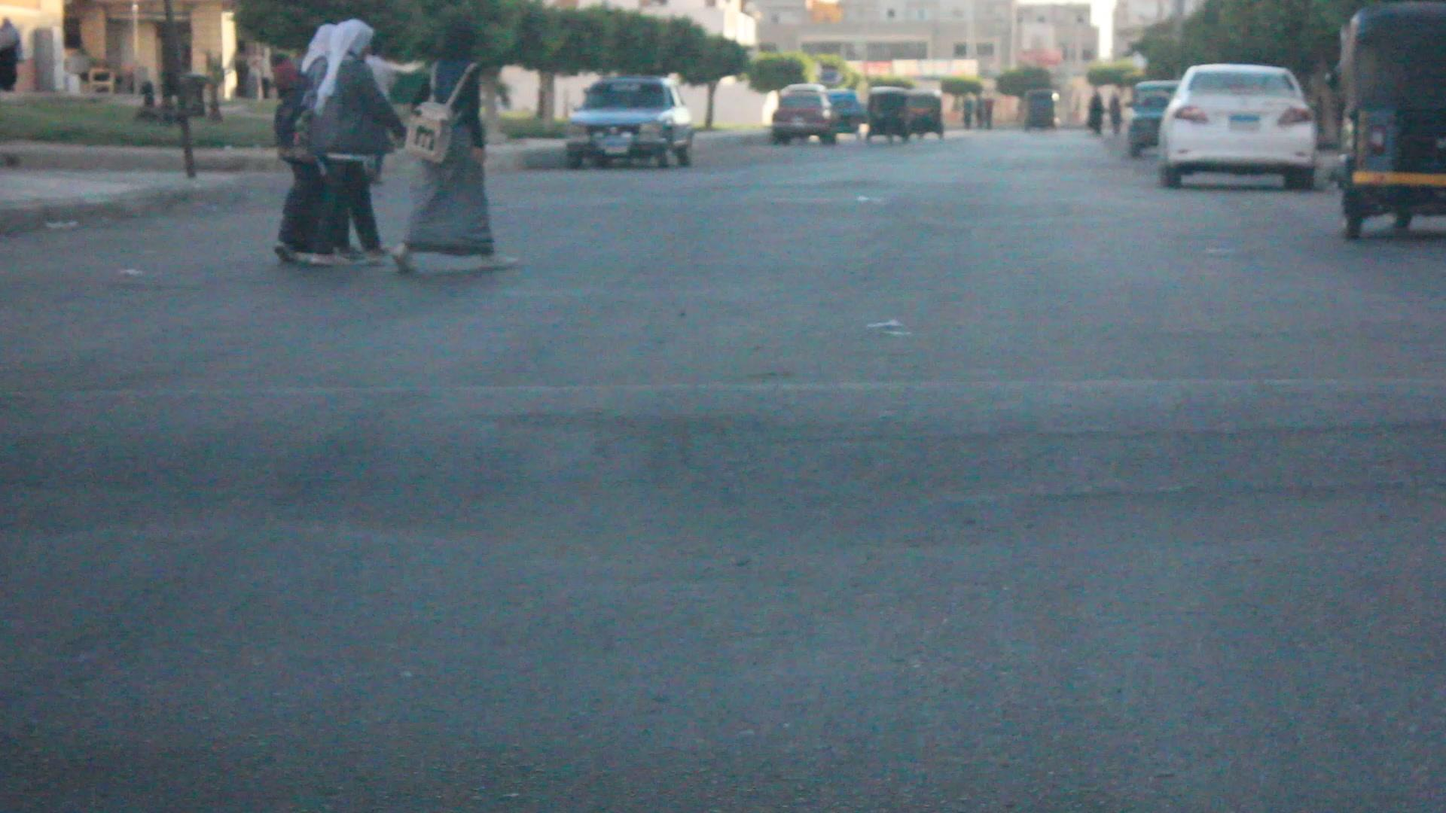Bump: (2, 382, 1446, 536)
